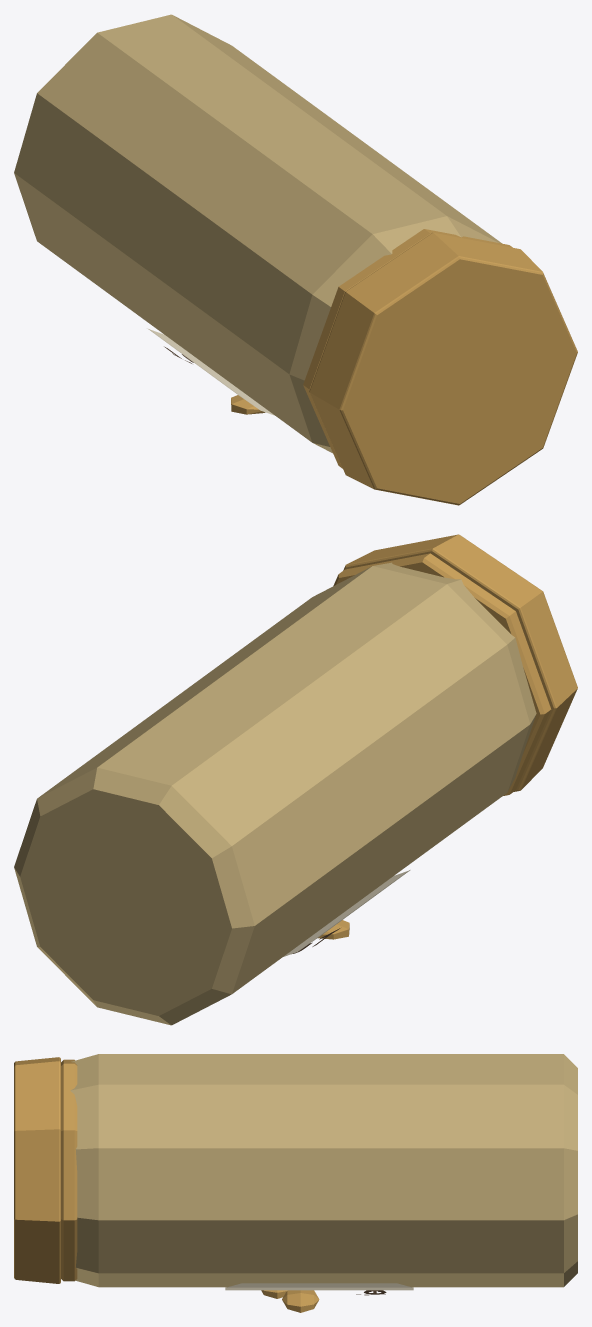
Rendered from turmeric.glb.
The picture shows the model from 3 angles, top to bottom: view 1: azimuth 30°, elevation 25°; view 2: azimuth 150°, elevation 25°; view 3: azimuth 270°, elevation 25°; orthographic projection. The views are drawn at different scales.
Parts seen in each view (by area): view 1: turmeric; view 2: turmeric; view 3: turmeric.
Part boxes in pixels (left/top/right/bottom): turmeric: left=14, top=14, right=577, bottom=505; turmeric: left=14, top=534, right=577, bottom=1025; turmeric: left=14, top=1054, right=577, bottom=1312.
Size of the model in its own units: 0.0514 by 0.0542 by 0.12.
